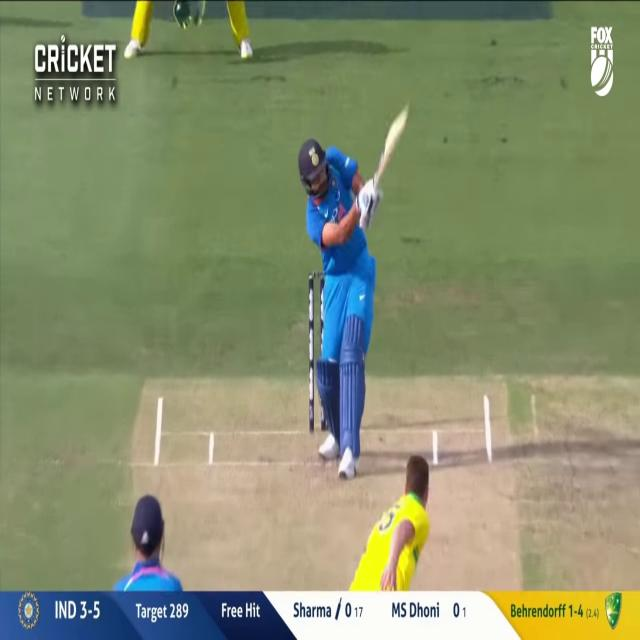ball: (539, 0, 560, 40)
stump: (310, 272, 326, 435)
